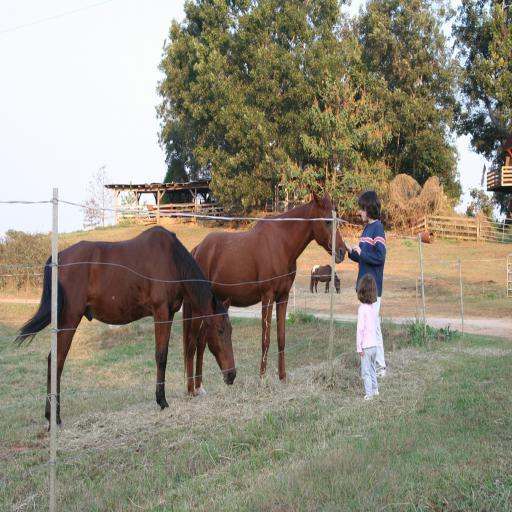horse: (15, 227, 239, 428), (182, 188, 348, 400)
